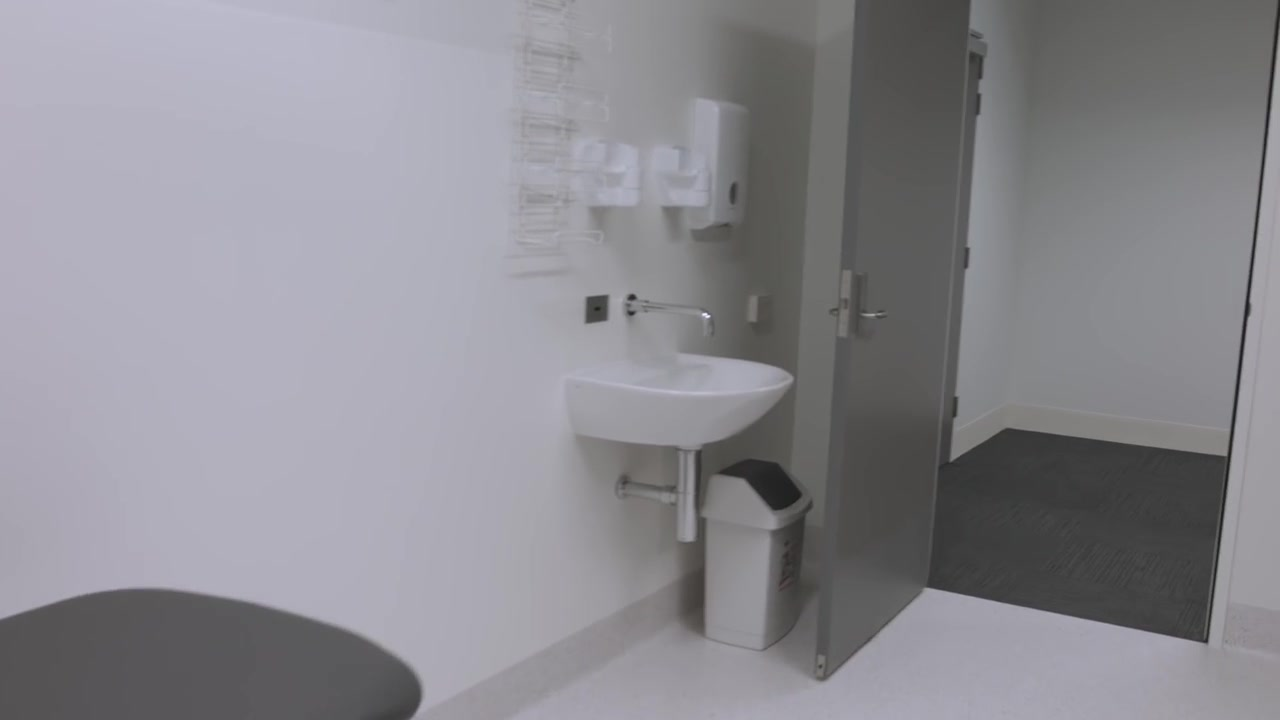dispenser: (688, 97, 750, 230)
door_handle: (843, 263, 897, 344)
exam_table: (1, 588, 422, 720)
faucet: (623, 294, 714, 337)
sink: (565, 349, 795, 447)
waste_bin: (704, 459, 813, 651)
